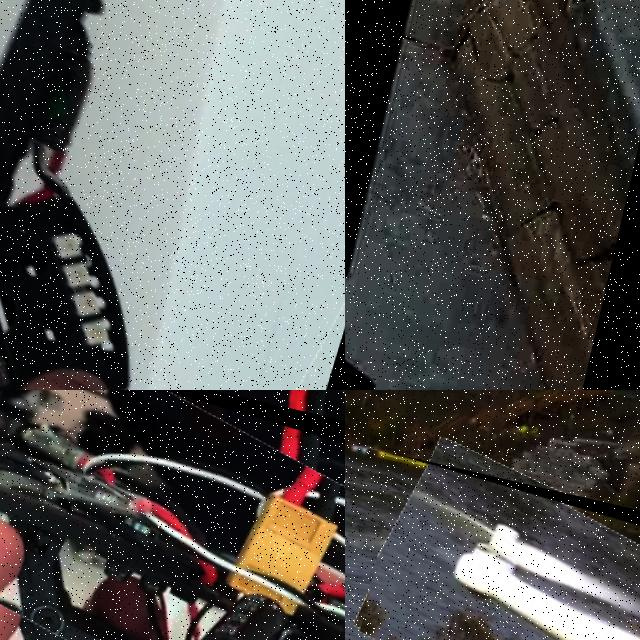drone: (0, 0, 345, 390), (0, 390, 345, 640), (345, 455, 640, 640)
